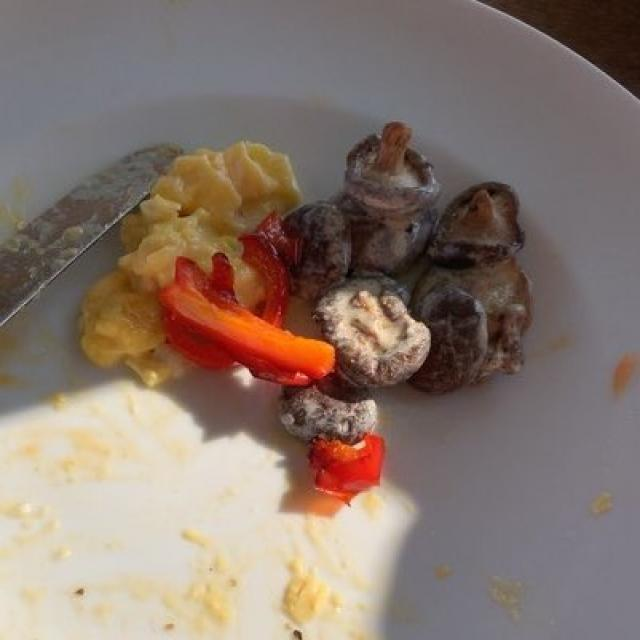bell-pepper: (154, 222, 368, 410)
eggs: (53, 140, 309, 377)
mushrooms: (274, 119, 531, 427)
